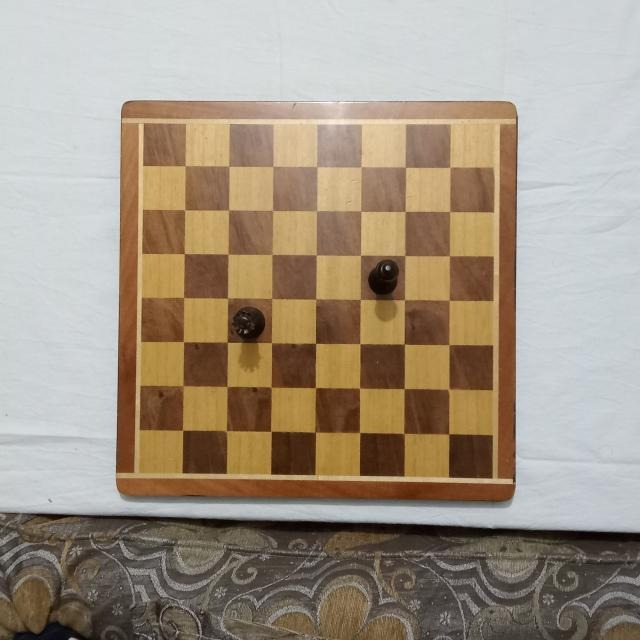black-king: (365, 256, 400, 296)
black-queen: (230, 304, 265, 339)
